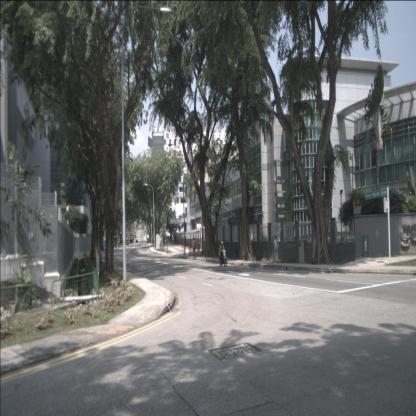human-pedestrian-adult: (273, 235, 279, 264), (192, 238, 196, 258), (197, 240, 201, 257)
vehicle-motorcycle: (218, 240, 227, 267)
vehicle-truck: (128, 234, 134, 243)
